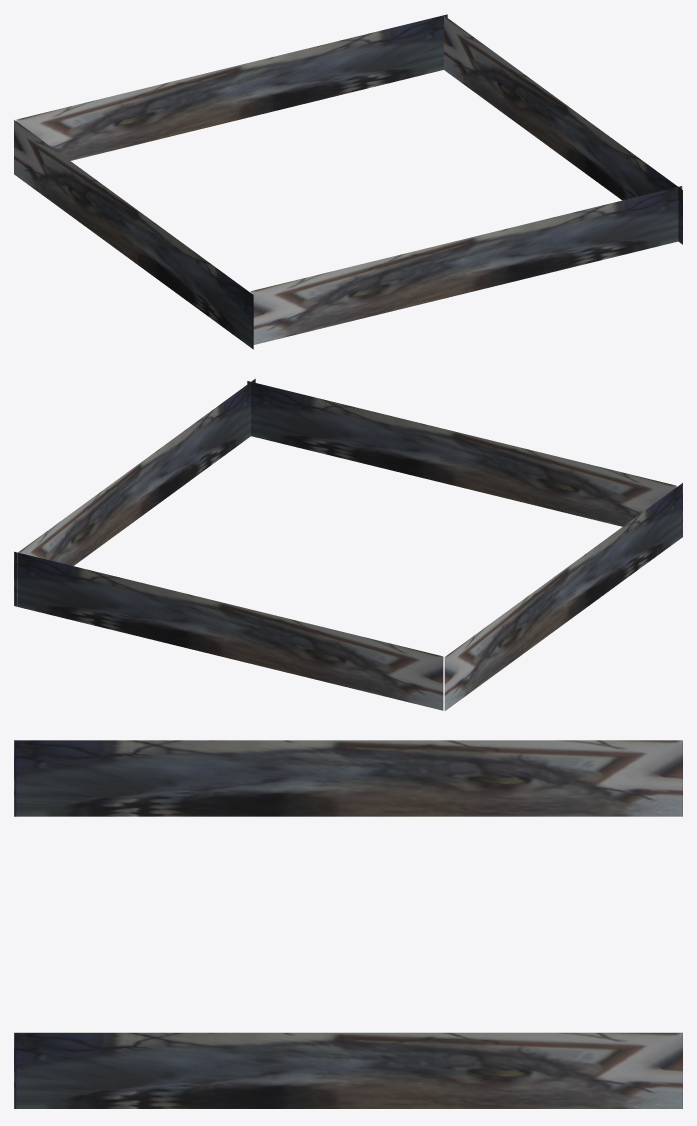
Rendered from room.glb.
3 renders of one model, top to bottom at view 1: azimuth 30°, elevation 25°; view 2: azimuth 150°, elevation 25°; view 3: azimuth 270°, elevation 25°, orthographic. The views are drawn at different scales.
Parts seen in each view (by area): view 1: Plane.001; view 2: Plane.001; view 3: Plane.001.
Part boxes in pixels (box(x1,y1,x2,y2)): Plane.001: box(14, 14, 682, 349); Plane.001: box(14, 378, 682, 710); Plane.001: box(14, 740, 682, 1108).
Size of the model in its own units: 8.29 by 1 by 7.94.
4 materials, 4 textured.
